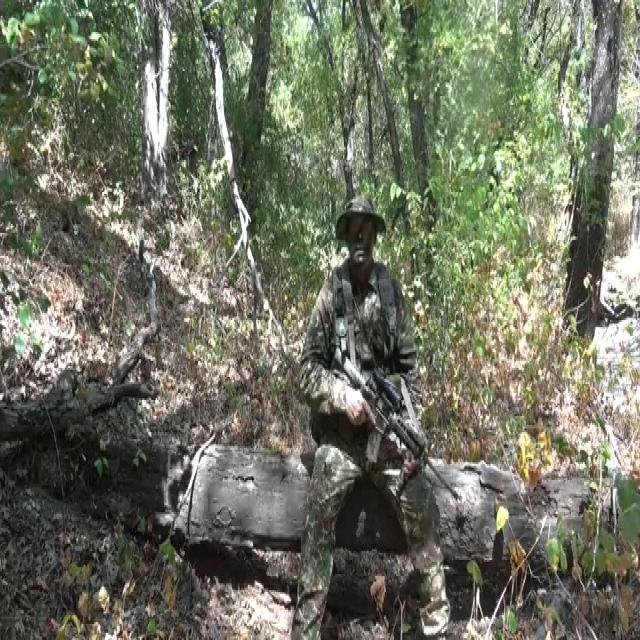MIL_Pax: (292, 196, 449, 638)
